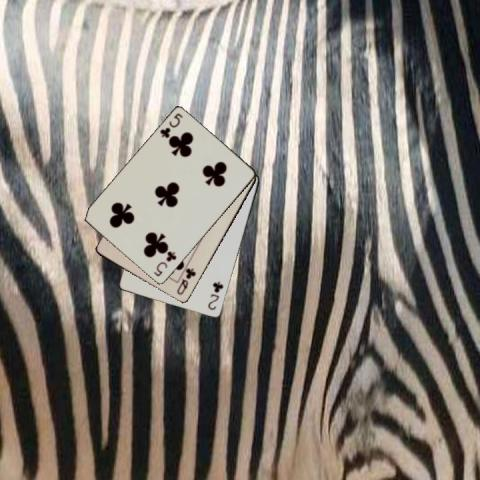2c: (205, 279, 225, 311)
5c: (157, 110, 184, 140), (151, 249, 178, 278)
Qc: (174, 265, 197, 297)
